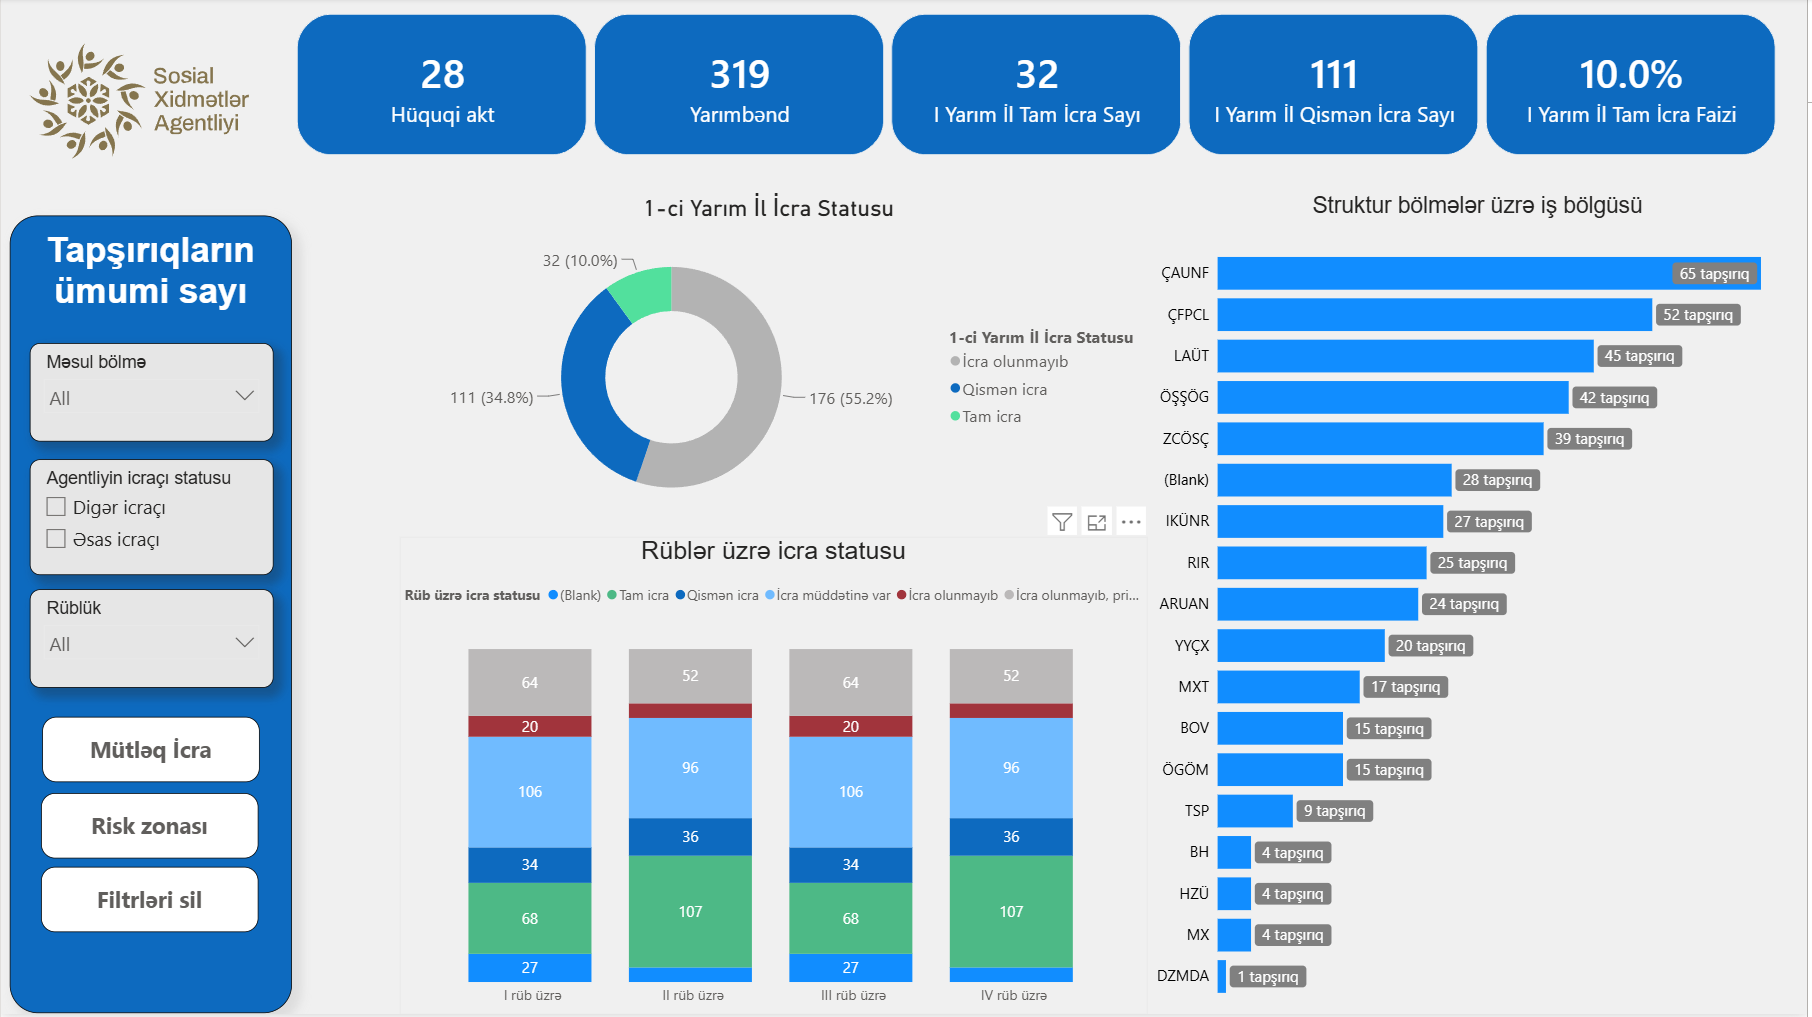

What the dashboard file says about the page in this screenshot:
{"tool":"powerbi","page":{"name":"Dashboard","canvas":[1920,1080],"ordinal":0},"visuals":[{"type":"barChart","title":"Struktur bölmələr üzrə iş bölgüsü","fields":{"Category":["Mesul bolme.Agentlik üzrə məsul bölmə"],"Y":["CountNonNull(Mesul bolme.S/N)"]},"box":[1218.2,206.9,702.1,873.3],"z":0},{"type":"cardVisual","fields":{"Data":["Count(Esas cedvel.Hüquqi aktın adı)","Count(Esas cedvel.S/N)","Rubluk.I Yarım İl Tam İcra Sayı","Rubluk.I Yarım İl Qismən İcra Sayı","Rubluk.I Yarım İl Tam İcra Faizi"]},"box":[297.4,0,1610.4,184],"z":1000},{"type":"donutChart","title":"1-ci Yarım İl İcra Statusu","fields":{"Category":["Rubluk.1-ci Yarım İl İcra Statusu"],"Y":["Count(Rubluk.S/N)"]},"box":[413.3,207.3,805.3,353.5],"z":2000},{"type":"columnChart","title":"Rüblər üzrə icra statusu","fields":{"Category":["Rubluk.Rüblük"],"Series":["Status Sira.Rüb üzrə icra statusu"],"Y":["Count(Rubluk.S/N)"]},"box":[423.9,572.8,794.7,507.6],"z":3000},{"type":"textbox","box":[9.1,230.9,300,848.3],"z":4000},{"type":"slicer","fields":{"Values":["Esas cedvel.Nazirlik üzrə Agentliyin icraçı statusu"]},"box":[30.2,490.6,259,122.9],"z":5000},{"type":"slicer","fields":{"Values":["Rubluk.Rubluk"]},"box":[30.2,627.9,259,104.4],"z":6000},{"type":"slicer","fields":{"Values":["Mesul bolme.Agentlik üzrə məsul bölmə"]},"box":[30.2,366.8,259,104.4],"z":7000},{"type":"actionButton","box":[43.8,763.8,230.9,69.4],"z":8000},{"type":"image","box":[9,0,275,218.2],"z":9000},{"type":"actionButton","box":[43.1,845,230.9,69.4],"z":10000},{"type":"actionButton","box":[43.1,923.8,230.9,69.4],"z":11000}]}

Visuals, with their boxes in screenshot pixels (x1, y1, x2, y2), scaled from the page's 1920x1080 canvas onto the 1812x1017 screenshot:
"Struktur bölmələr üzrə iş bölgüsü" barChart: region(1150, 195, 1811, 1016)
cardVisual - Count(Esas cedvel.Hüquqi aktın adı) x Count(Esas cedvel.S/N): region(281, 0, 1800, 173)
"1-ci Yarım İl İcra Statusu" donutChart: region(390, 195, 1150, 528)
"Rüblər üzrə icra statusu" columnChart: region(400, 539, 1150, 1016)
textbox: region(9, 217, 292, 1016)
slicer - Esas cedvel.Nazirlik üzrə Agentliyin icraçı statusu: region(29, 462, 273, 578)
slicer - Rubluk.Rubluk: region(29, 591, 273, 690)
slicer - Mesul bolme.Agentlik üzrə məsul bölmə: region(29, 345, 273, 444)
actionButton: region(41, 719, 259, 785)
image: region(8, 0, 268, 205)
actionButton: region(41, 796, 259, 861)
actionButton: region(41, 870, 259, 935)
